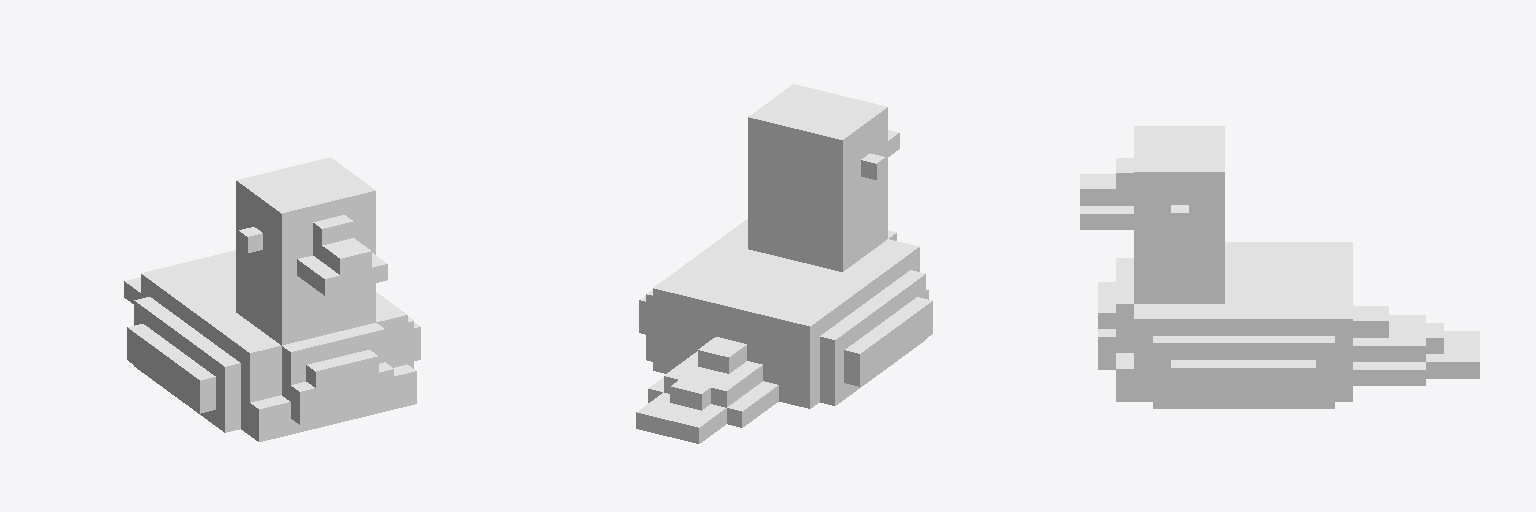
The model's file is DuckSwimming.obj.
The picture shows the model from 3 angles: view 1: azimuth 30°, elevation 25°; view 2: azimuth 150°, elevation 25°; view 3: azimuth 270°, elevation 25°; orthographic projection.
Visible parts, largest first — view 1: object 1; view 2: object 1; view 3: object 1.
Boxes of the visible parts, box(x1,y1,x2,y2) form: object 1: box(124, 157, 420, 441); object 1: box(636, 84, 932, 443); object 1: box(1080, 126, 1479, 408).
Size of the model in its own units: 1.4 by 1.3 by 2.2.